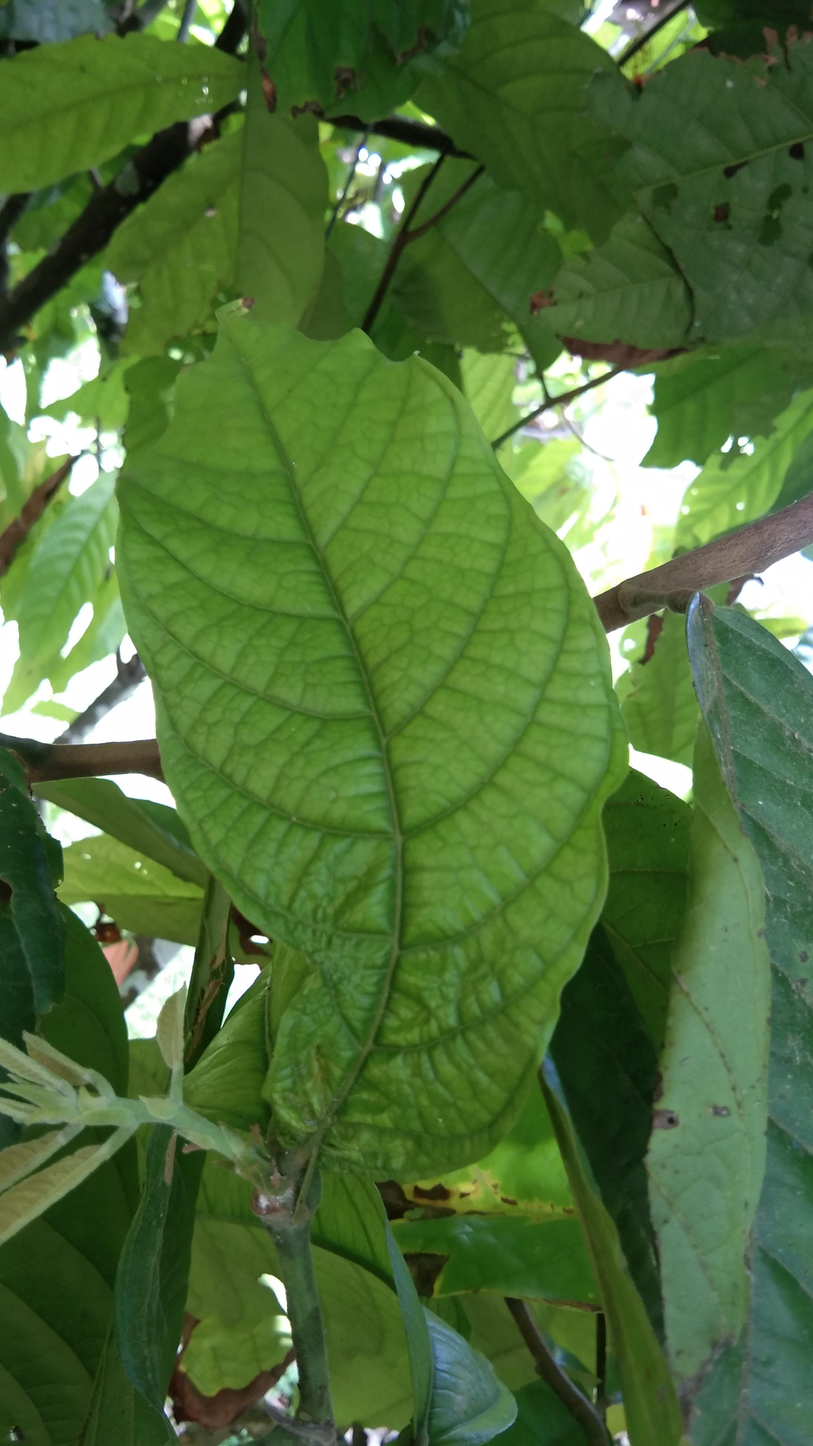deficiencia_potasio: (97, 299, 615, 1192)
